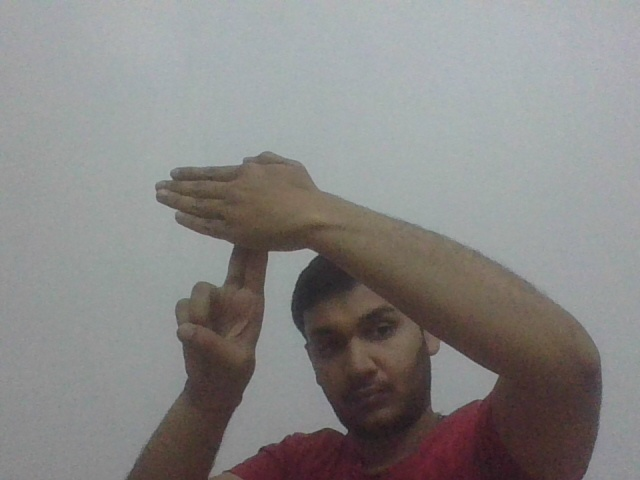N: (155, 150, 296, 288)
